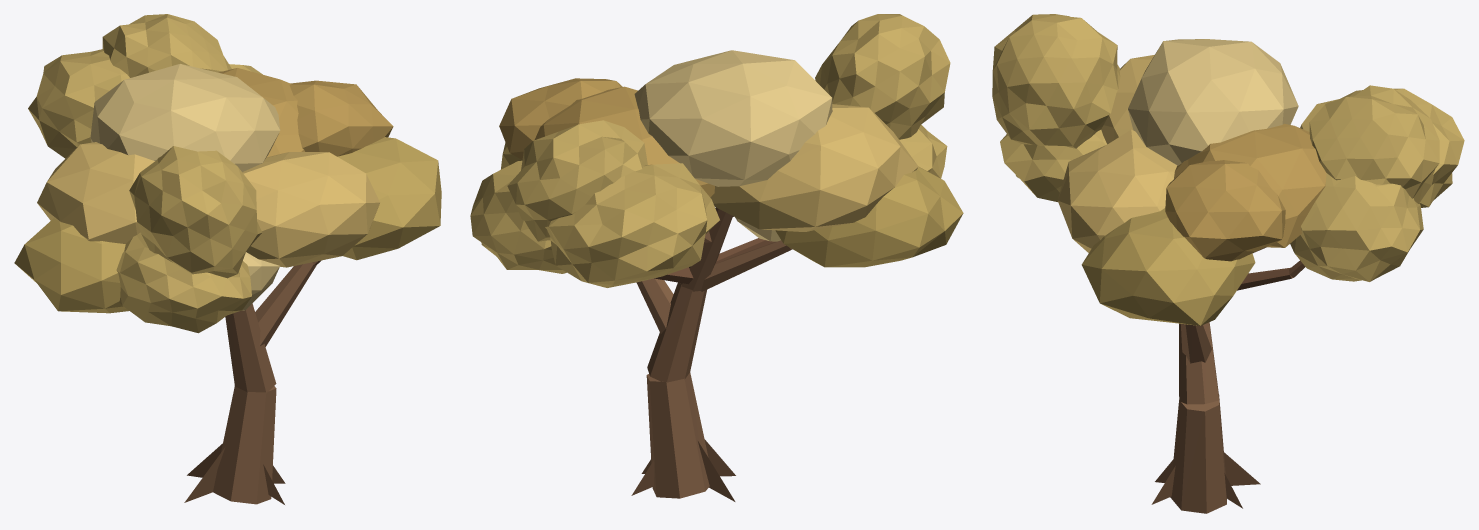
File: goldenTree_2.glb
The picture shows the model from 3 angles, left to right: view 1: azimuth 30°, elevation 25°; view 2: azimuth 150°, elevation 25°; view 3: azimuth 270°, elevation 25°; orthographic projection. The views are drawn at different scales.
Parts seen in each view (by area): view 1: foliage-2, foliage-1, foliage-0, surface; view 2: foliage-2, foliage-1, foliage-0, surface; view 3: foliage-2, foliage-1, foliage-0, surface.
Part boxes in pixels (left/top/right/bottom): foliage-2: left=28, top=49, right=379, bottom=278; foliage-1: left=37, top=14, right=441, bottom=260; foliage-0: left=14, top=64, right=304, bottom=333; surface: left=184, top=260, right=321, bottom=504; foliage-2: left=545, top=14, right=950, bottom=287; foliage-1: left=499, top=78, right=918, bottom=241; foliage-0: left=470, top=86, right=963, bottom=273; surface: left=631, top=207, right=792, bottom=501; foliage-2: left=992, top=14, right=1464, bottom=252; foliage-1: left=1081, top=54, right=1439, bottom=325; foliage-0: left=1000, top=123, right=1423, bottom=281; surface: left=1151, top=247, right=1305, bottom=513.
Bounding box in the file's own units: 5.77 × 5.78 × 5.82.
